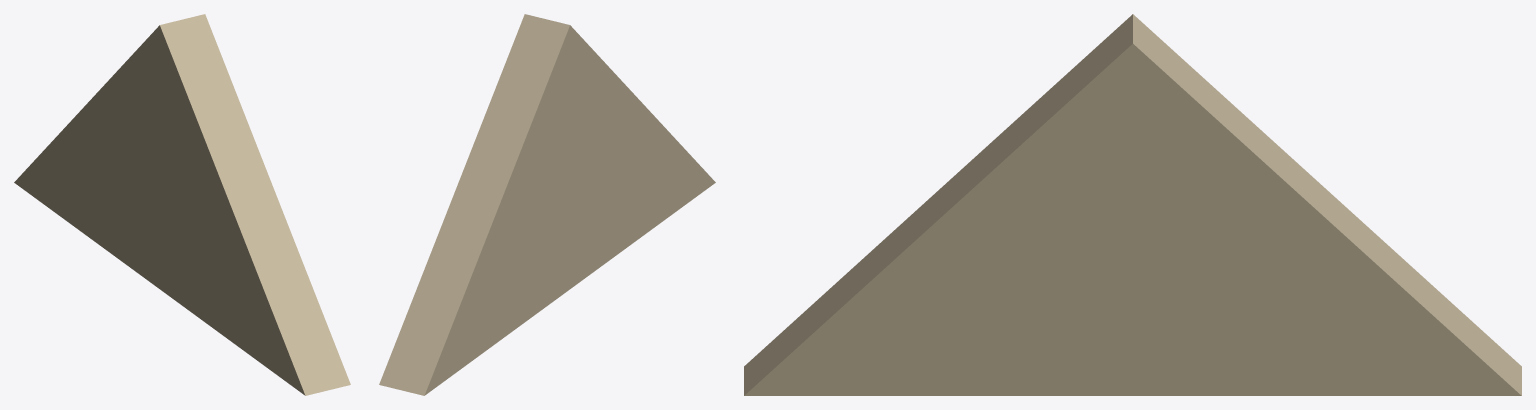
Rendered from architecture-city-gable.lod0.glb.
3 renders of one model, left to right at view 1: azimuth 30°, elevation 25°; view 2: azimuth 150°, elevation 25°; view 3: azimuth 270°, elevation 25°, orthographic. The views are drawn at different scales.
Parts seen in each view (by area): view 1: architecture-city-gable__body; view 2: architecture-city-gable__body; view 3: architecture-city-gable__body.
Boxes of the visible parts, x1=… form: architecture-city-gable__body: x1=14, y1=14, x2=350, y2=395; architecture-city-gable__body: x1=379, y1=14, x2=715, y2=395; architecture-city-gable__body: x1=744, y1=14, x2=1521, y2=395.
Bounding box in the file's own units: 0.18 × 1 × 2.
